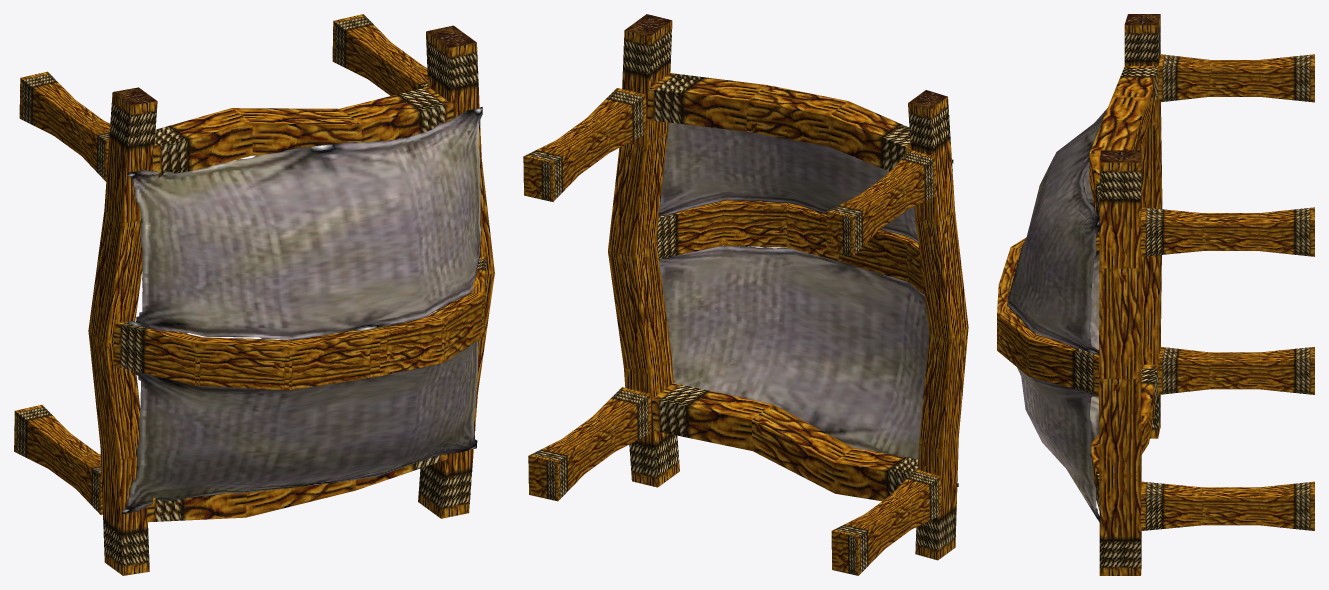
Rendered from LVL_RIV_INST_SMALL_TENT.fbx.
The picture shows the model from 3 angles, left to right: view 1: azimuth 30°, elevation 25°; view 2: azimuth 150°, elevation 25°; view 3: azimuth 270°, elevation 25°; orthographic projection. The views are drawn at different scales.
Parts seen in each view (by area): view 1: LVL_RIV_INST_SMALL_TENT; view 2: LVL_RIV_INST_SMALL_TENT; view 3: LVL_RIV_INST_SMALL_TENT.
Boxes of the visible parts, x1,y1,x2,y2 form: LVL_RIV_INST_SMALL_TENT: [14, 14, 494, 575]; LVL_RIV_INST_SMALL_TENT: [523, 14, 968, 575]; LVL_RIV_INST_SMALL_TENT: [997, 14, 1314, 575].
Bounding box in the file's own units: 48061 × 58789 × 40113.
Materials: 4 (4 with a texture image).
